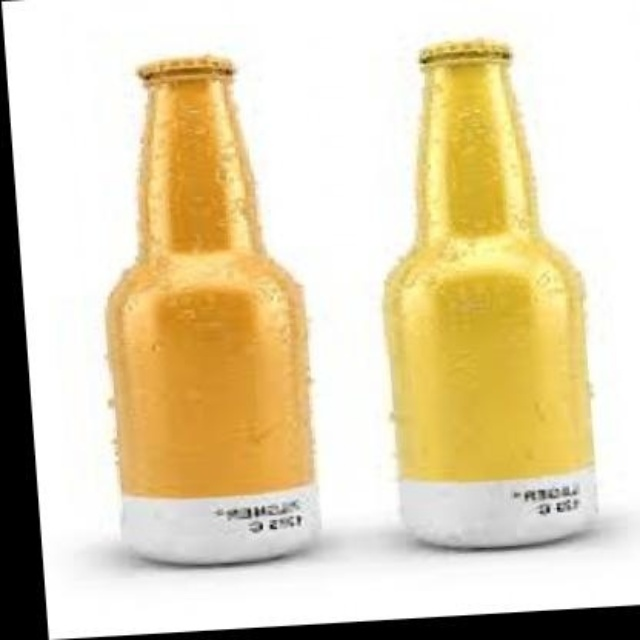trash: (385, 40, 595, 546), (108, 55, 317, 563)
